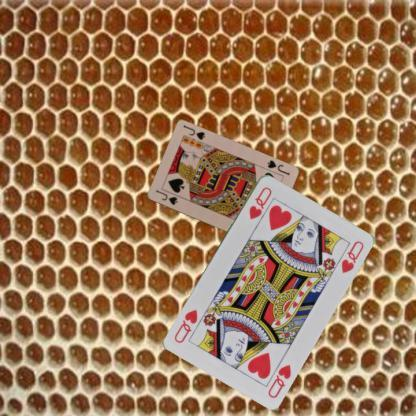Js: (264, 157, 291, 177), (154, 187, 178, 206)
Qh: (265, 361, 292, 399), (246, 184, 273, 220)
